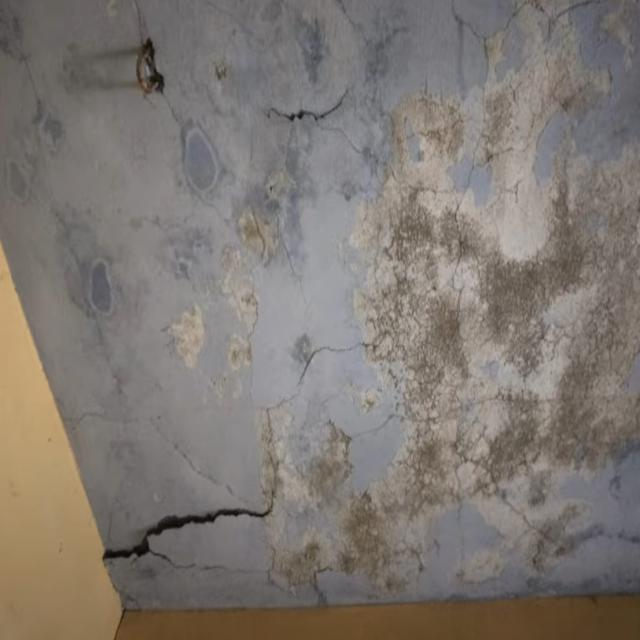Wall_Cracks: (75, 33, 640, 634)
